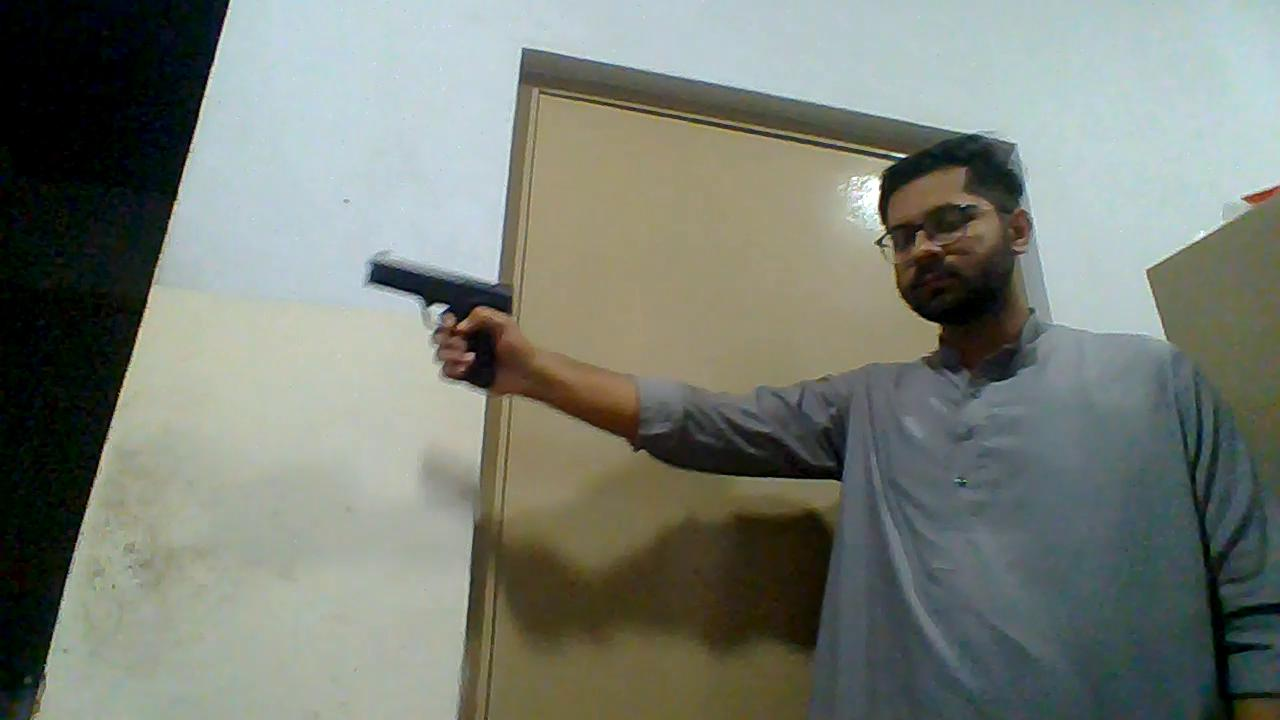criminal: (366, 133, 1280, 720)
weapon: (367, 252, 515, 393)
